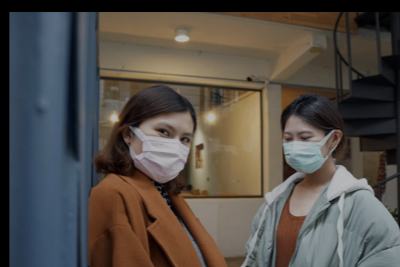with_mask: (133, 122, 193, 185), (281, 129, 329, 175)
